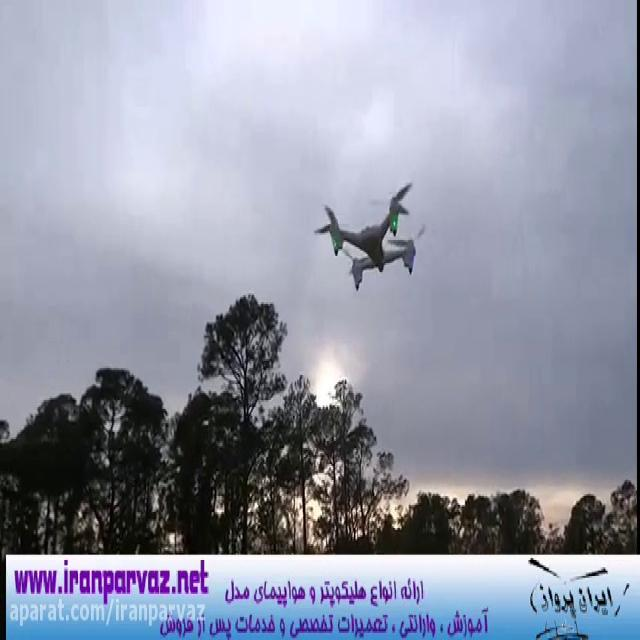drone: (310, 174, 428, 294)
